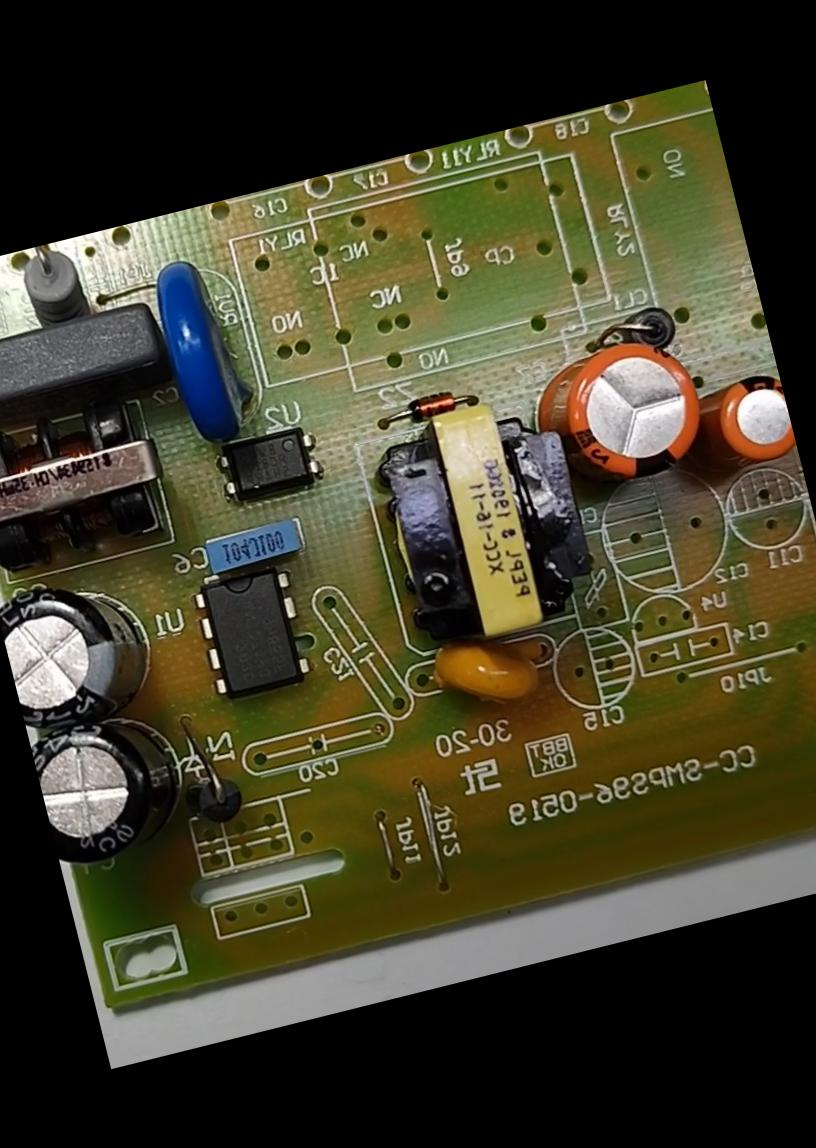Cap1: (516, 320, 726, 514)
Cap2: (695, 366, 799, 478)
Cap3: (0, 558, 184, 743)
Cap4: (26, 688, 228, 893)
MOSFET: (171, 541, 348, 730)
Mov: (128, 237, 272, 477)
Resistor: (0, 230, 126, 344)
Transformer: (327, 359, 616, 688), (0, 371, 201, 607)
